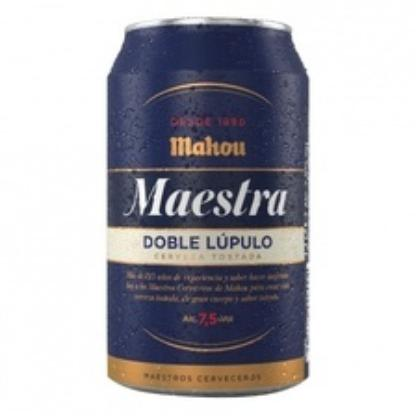Can: (105, 19, 309, 399)
